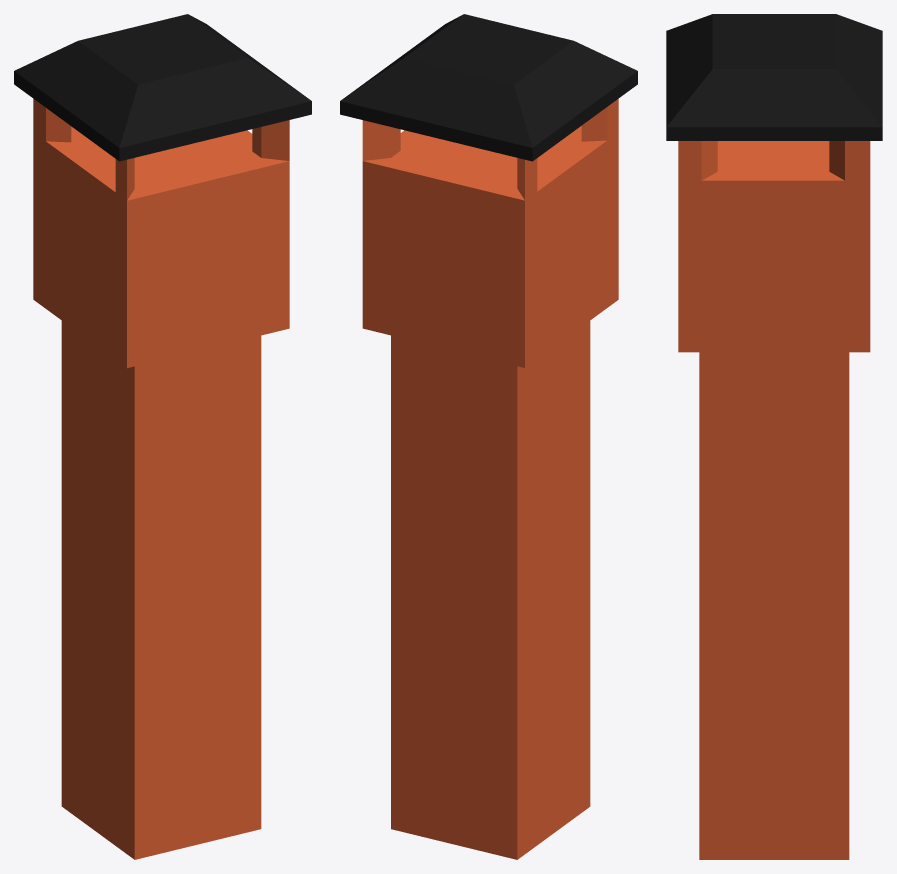
The model's file is Chaminé2.fbx.
The picture shows the model from 3 angles, left to right: view 1: azimuth 30°, elevation 25°; view 2: azimuth 150°, elevation 25°; view 3: azimuth 270°, elevation 25°; orthographic projection. The views are drawn at different scales.
Visible parts, largest first — view 1: Cube.068; view 2: Cube.068; view 3: Cube.068.
Boxes of the visible parts, x1=… form: Cube.068: x1=14, y1=14, x2=311, y2=859; Cube.068: x1=340, y1=14, x2=637, y2=859; Cube.068: x1=666, y1=14, x2=882, y2=859.
Size of the model in its own units: 55.68 by 212 by 52.8.
